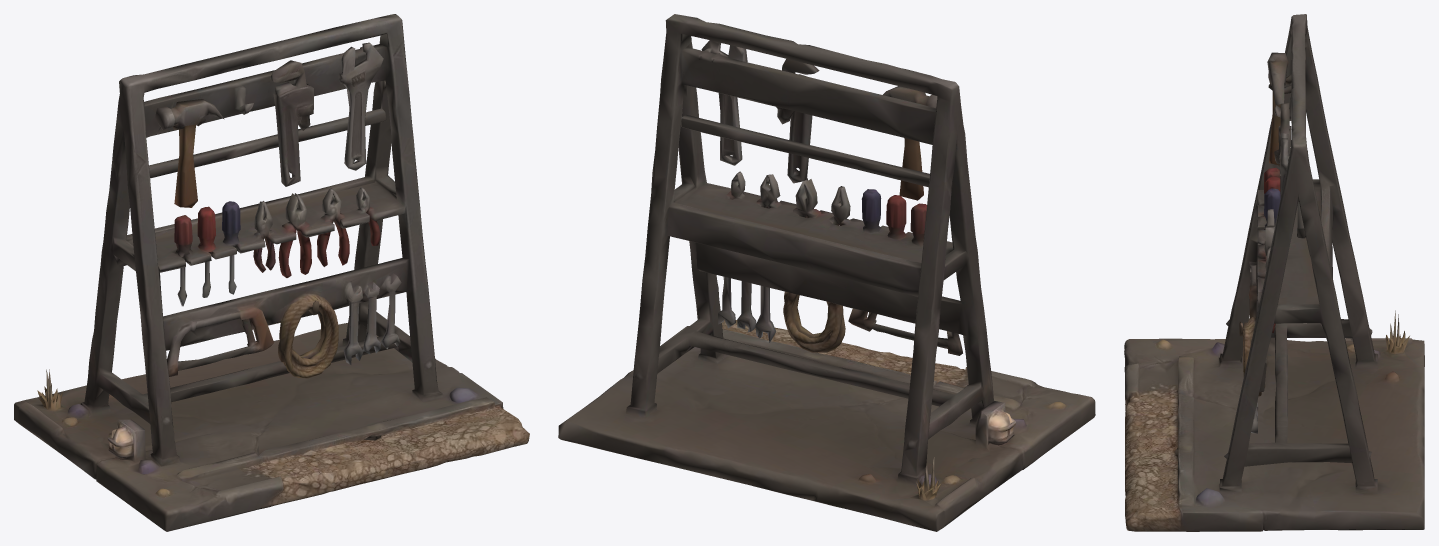
File: garage_tool_rack.glb
3 renders of one model, left to right at view 1: azimuth 30°, elevation 25°; view 2: azimuth 150°, elevation 25°; view 3: azimuth 270°, elevation 25°, orthographic. The views are drawn at different scales.
Visible parts, largest first — view 1: tripo_node_e709fb0c-43e8-4386-a2cc-cd3c98833014; view 2: tripo_node_e709fb0c-43e8-4386-a2cc-cd3c98833014; view 3: tripo_node_e709fb0c-43e8-4386-a2cc-cd3c98833014.
Boxes of the visible parts, left/top/right/bottom form: tripo_node_e709fb0c-43e8-4386-a2cc-cd3c98833014: left=14, top=14, right=529, bottom=531; tripo_node_e709fb0c-43e8-4386-a2cc-cd3c98833014: left=558, top=14, right=1095, bottom=531; tripo_node_e709fb0c-43e8-4386-a2cc-cd3c98833014: left=1124, top=14, right=1424, bottom=531.
Bounding box in the file's own units: 1 × 0.9762 × 0.7241.
Materials: 1 (1 with a texture image).
